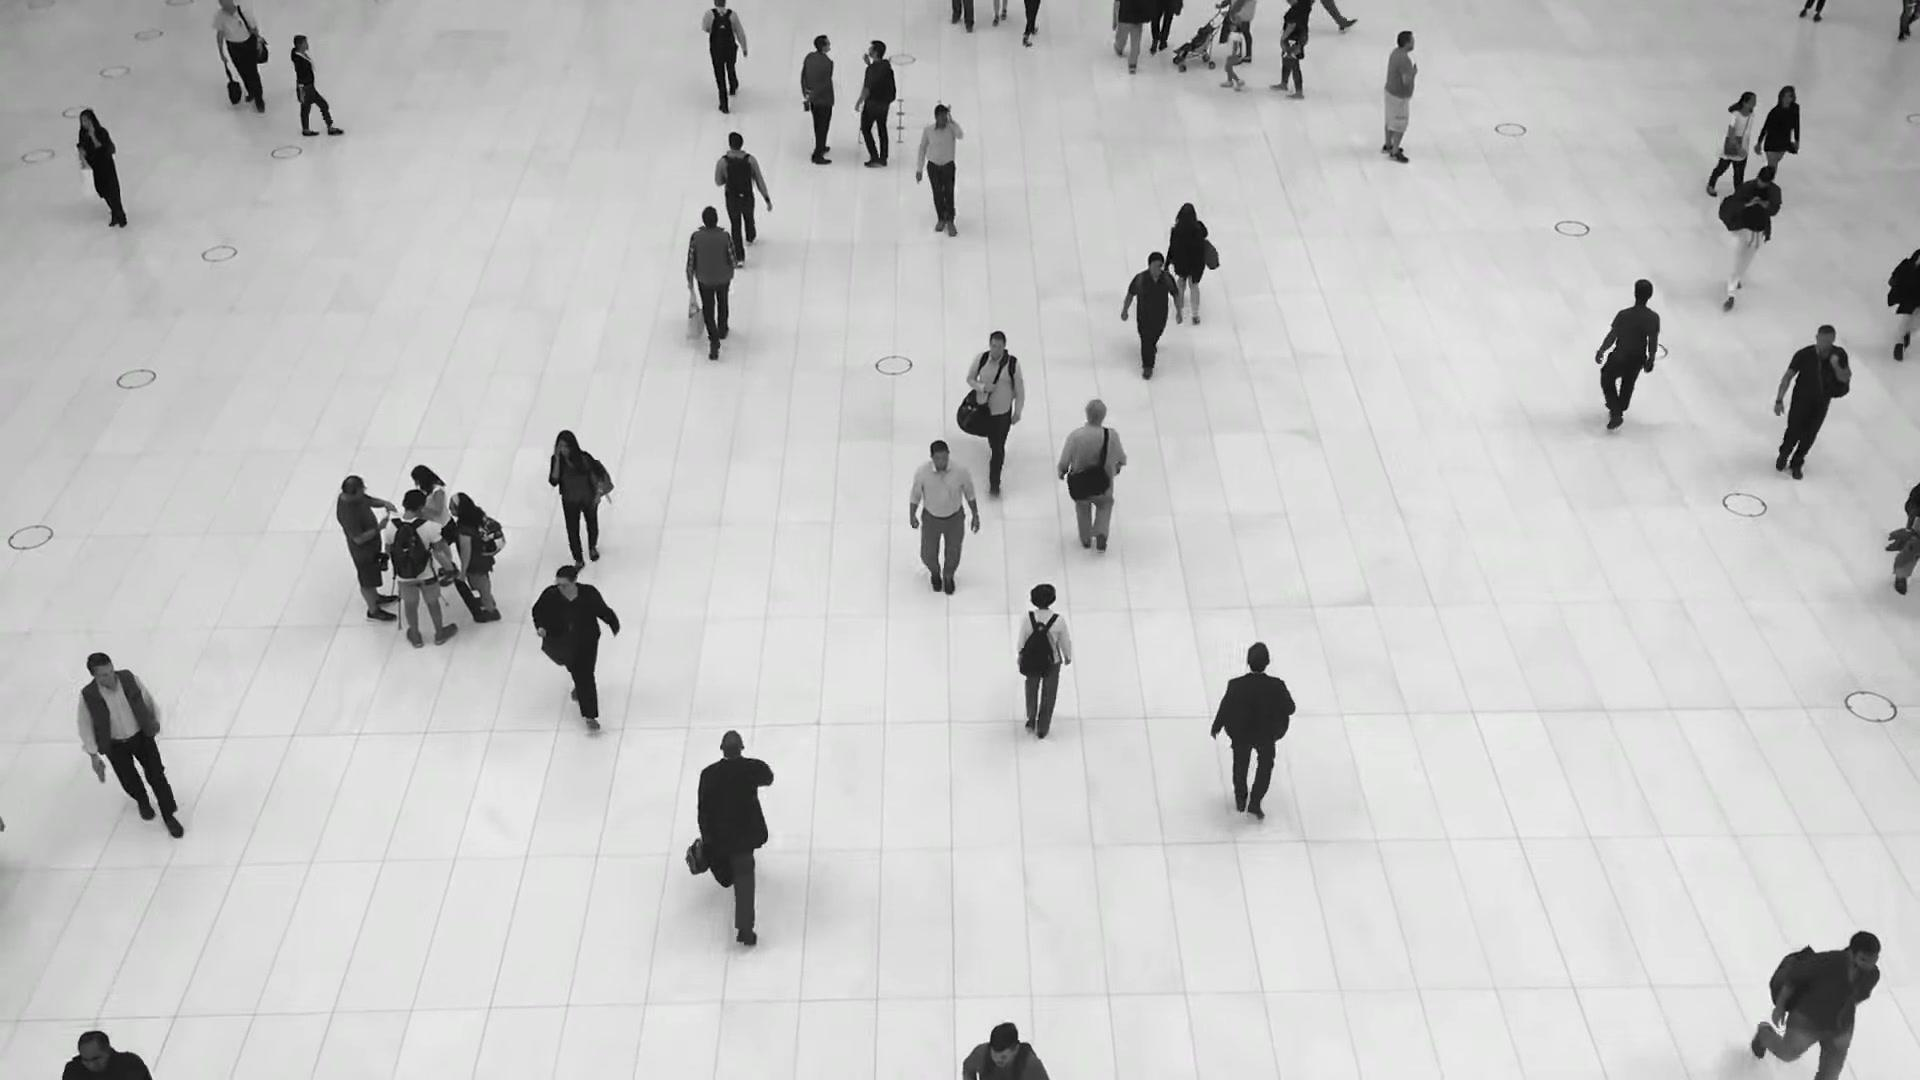person: (78, 657, 178, 847), (1212, 645, 1296, 837), (694, 727, 776, 925), (1775, 929, 1886, 1067), (533, 566, 618, 727), (1773, 329, 1849, 494), (383, 489, 458, 651), (906, 445, 976, 610), (1057, 401, 1127, 565), (1591, 280, 1659, 440), (335, 474, 400, 629), (1011, 586, 1069, 757), (967, 330, 1025, 490), (1716, 164, 1782, 305), (547, 433, 611, 573), (683, 203, 738, 352), (448, 492, 502, 624), (914, 106, 963, 239), (1127, 249, 1180, 370), (76, 108, 129, 229), (715, 130, 766, 255), (211, 0, 268, 112), (409, 465, 459, 589), (287, 35, 347, 138), (1163, 201, 1214, 315), (1708, 90, 1758, 198), (1380, 29, 1418, 165), (856, 40, 895, 169), (700, 0, 747, 109), (799, 35, 836, 165), (1755, 87, 1798, 179), (1276, 0, 1311, 99), (1217, 21, 1243, 93)
